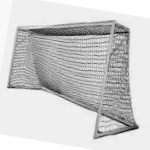goals: (4, 17, 141, 140)
